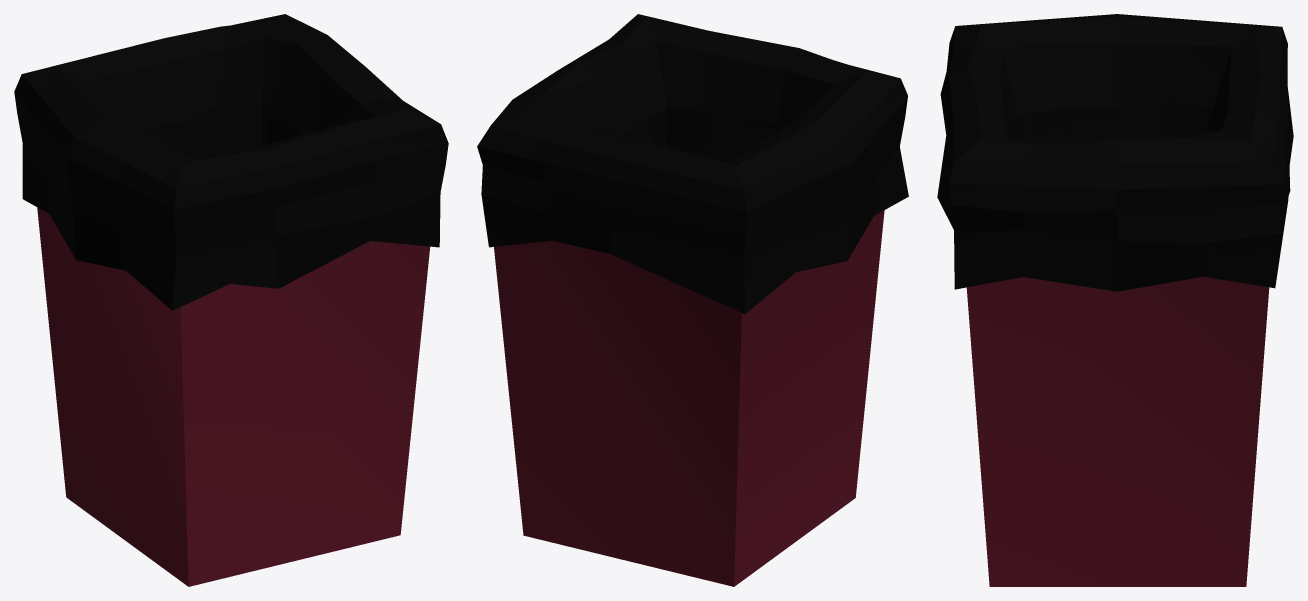
File: P_Garbage.fbx
3 renders of one model, left to right at view 1: azimuth 30°, elevation 25°; view 2: azimuth 150°, elevation 25°; view 3: azimuth 270°, elevation 25°, orthographic. The views are drawn at different scales.
Parts seen in each view (by area): view 1: P_Garbage; view 2: P_Garbage; view 3: P_Garbage.
Boxes of the visible parts, <box> form: P_Garbage: <box>14,14,448,586</box>; P_Garbage: <box>477,14,908,586</box>; P_Garbage: <box>937,14,1293,586</box>.
Bounding box in the file's own units: 255 × 239 × 332.
